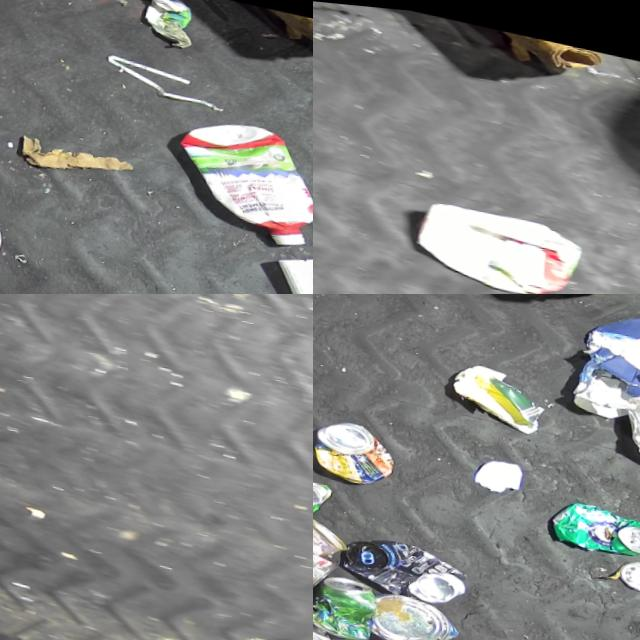can: (344, 524, 479, 603), (313, 409, 403, 484), (551, 485, 640, 550), (375, 582, 470, 640), (314, 564, 388, 635), (313, 507, 347, 596), (313, 506, 355, 554), (313, 587, 348, 640), (313, 465, 338, 531), (621, 544, 640, 583)
milk_jug: (411, 188, 591, 294)
